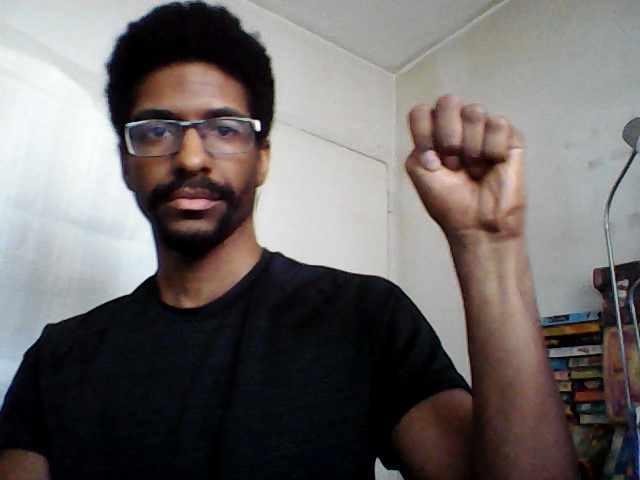m: (403, 93, 532, 237)
